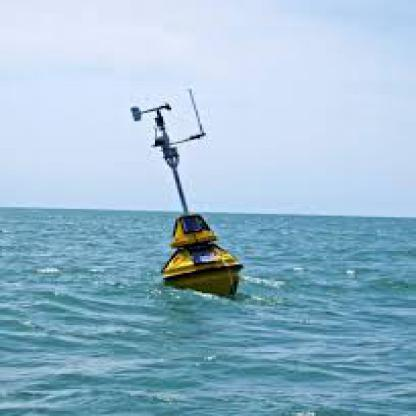buoy: (116, 86, 253, 308)
